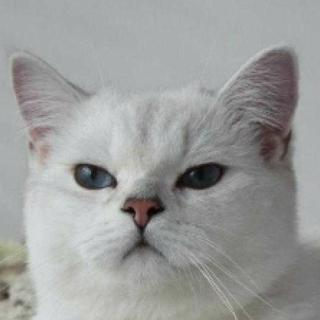cat: (8, 42, 306, 320)
nose: (117, 188, 172, 236)
